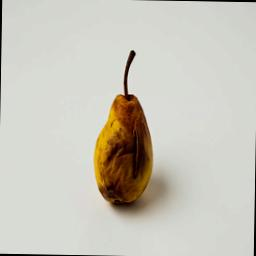Pear Rotten: (86, 54, 160, 226)
